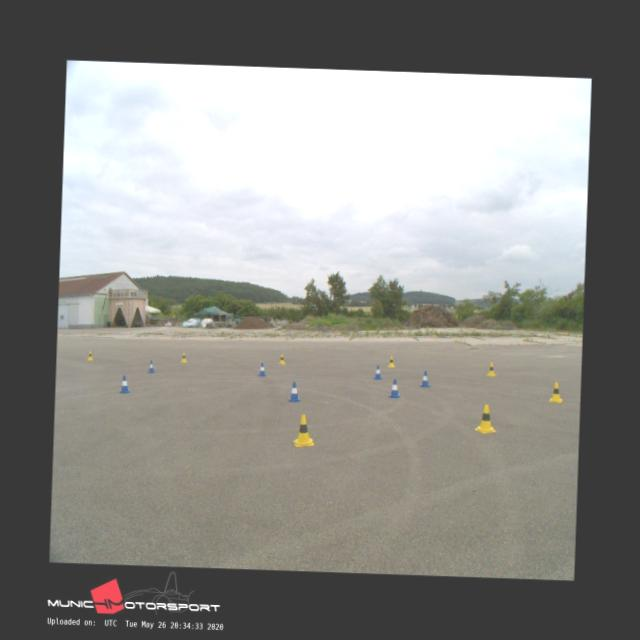blue_cone: (288, 380, 300, 400), (388, 378, 399, 398), (118, 374, 130, 392), (419, 371, 430, 386), (373, 364, 381, 378), (258, 362, 266, 375), (148, 360, 154, 372)
yellow_cone: (292, 414, 314, 446), (474, 404, 496, 433), (546, 381, 562, 402), (486, 362, 496, 374), (387, 355, 394, 367), (86, 349, 92, 360), (180, 351, 187, 360), (278, 353, 284, 363)
